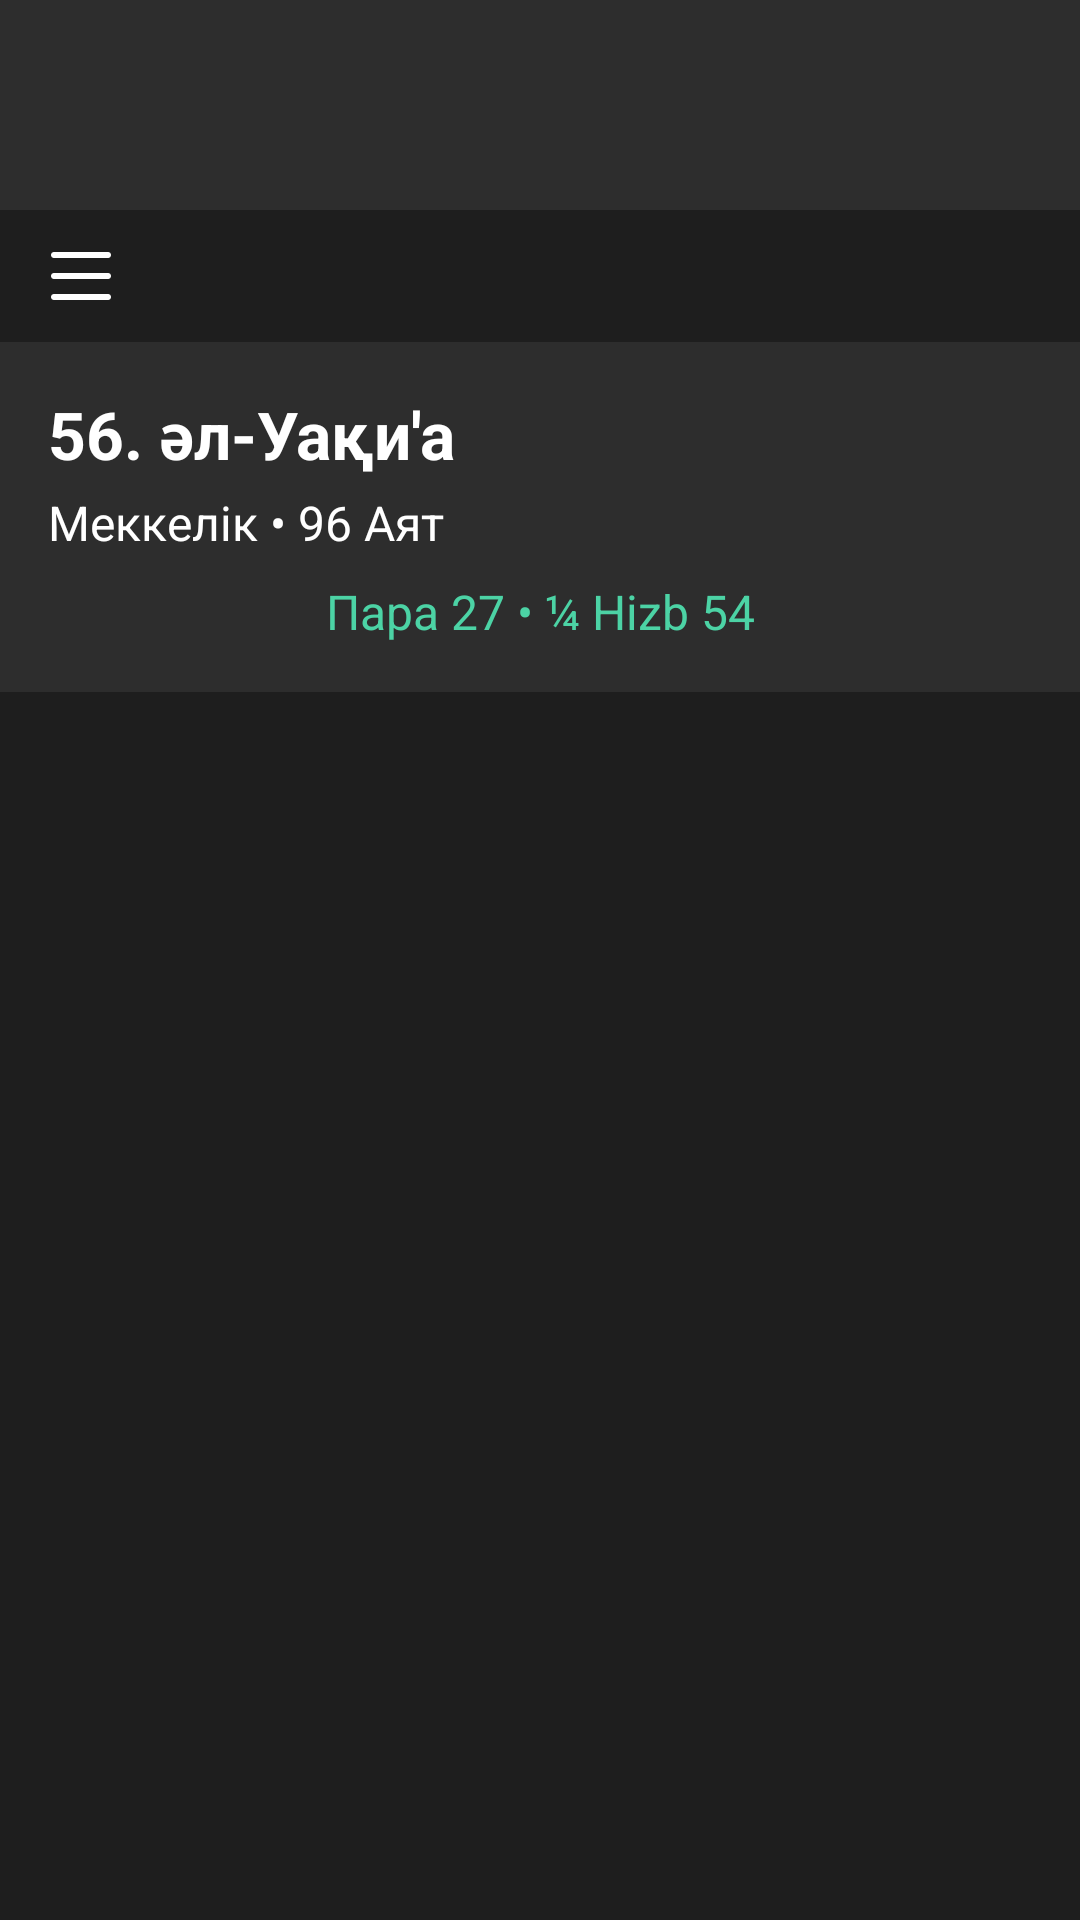

Screen size 1080px×1920px. Icon name, then its center in pixels as point (x, y):
menu: point (81, 276)
